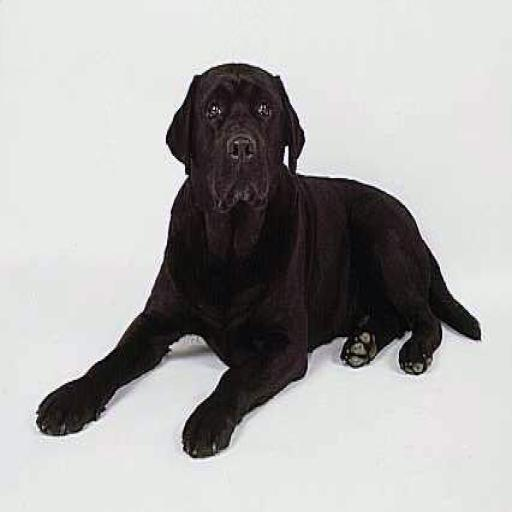dog_face: (176, 56, 306, 206)
